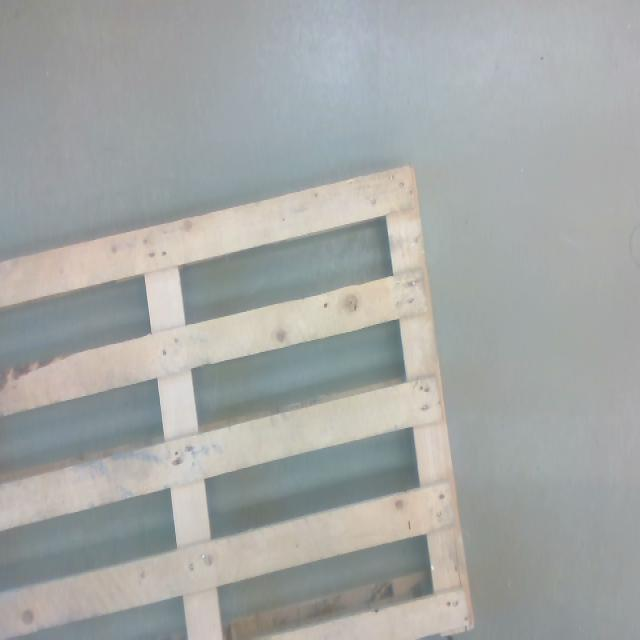pallet: (0, 162, 474, 640)
